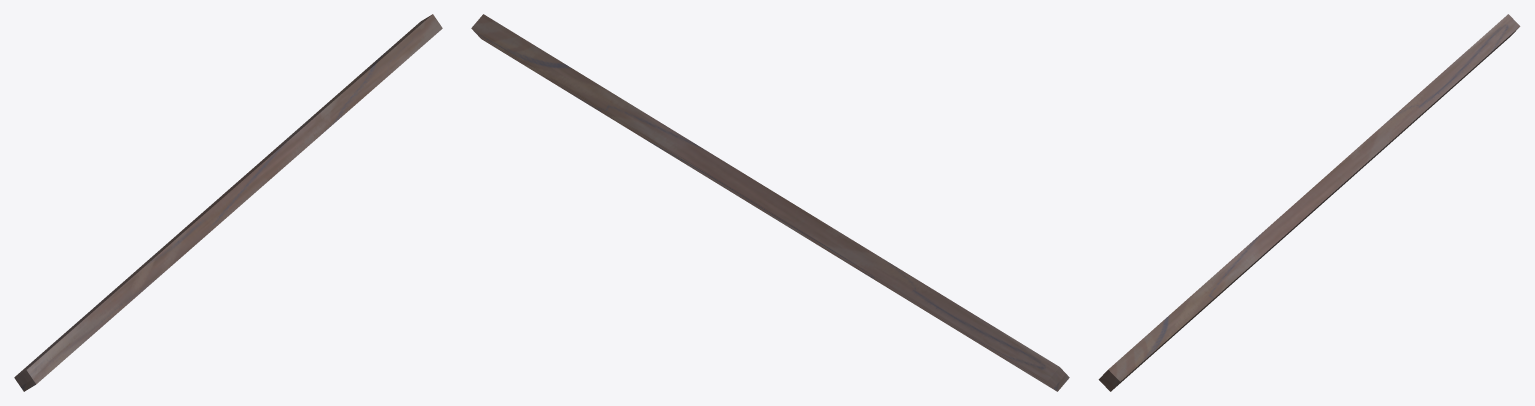
Rendered from stay_004.fbx.
3 views of the same model, side by side, from view 1: azimuth 90°, elevation 25°; view 2: azimuth 150°, elevation 25°; view 3: azimuth 270°, elevation 25° (orthographic). The views are drawn at different scales.
Visible parts, largest first — view 1: stay.004; view 2: stay.004; view 3: stay.004.
Part boxes in pixels (<box>): stay.004: <box>14,14,442,391</box>; stay.004: <box>471,14,1069,391</box>; stay.004: <box>1098,14,1520,391</box>.
Bounding box in the file's own units: 249 × 7.96 × 124.
